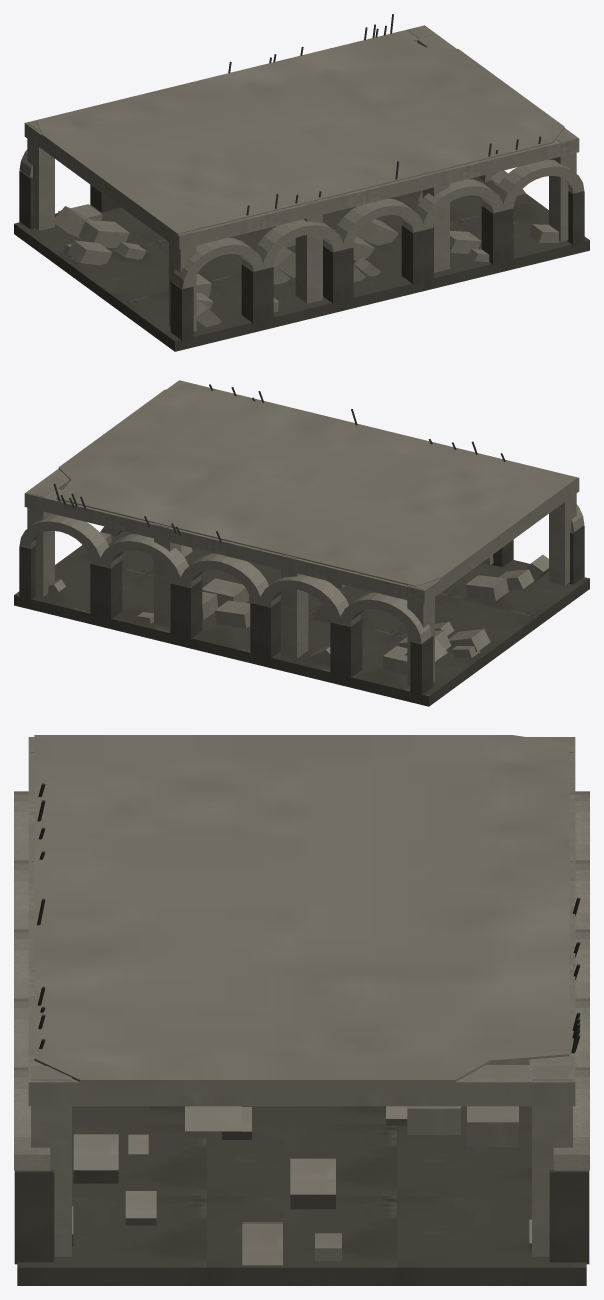
The model's file is ash-ruin-arcade.glb.
3 views of the same model, one above another, from view 1: azimuth 30°, elevation 25°; view 2: azimuth 150°, elevation 25°; view 3: azimuth 270°, elevation 25° (orthographic). The views are drawn at different scales.
Visible parts, largest first — view 1: ash-ruin-arcade.001; view 2: ash-ruin-arcade.001; view 3: ash-ruin-arcade.001.
Part boxes in pixels (x1,y1,x2,y2): ash-ruin-arcade.001: (14,14,589,351); ash-ruin-arcade.001: (14,380,589,706); ash-ruin-arcade.001: (14,735,589,1285).
Size of the model in its own units: 8 by 2.38 by 5.44.
Materials: 1 (1 with a texture image).
